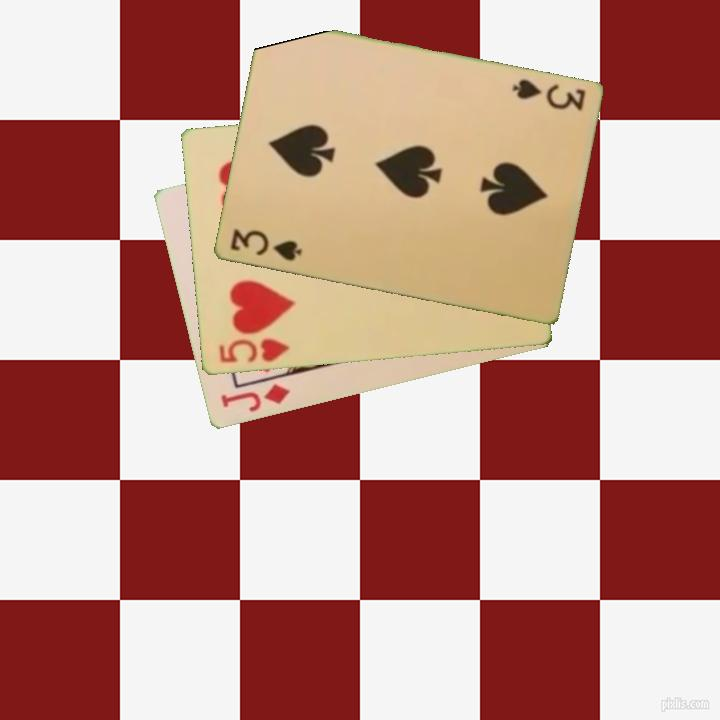3s: (508, 76, 588, 114), (226, 226, 305, 264)
5h: (215, 335, 292, 367)
Jd: (217, 380, 293, 416)
